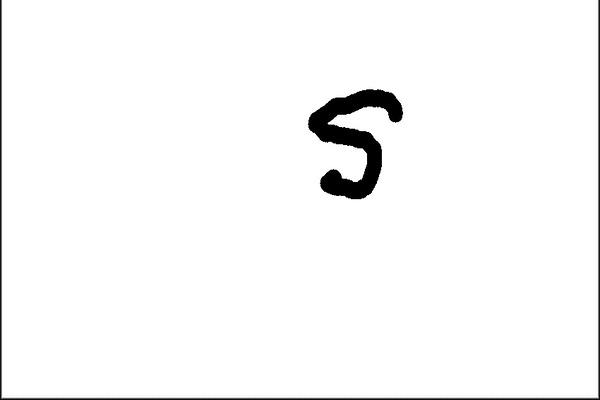S: (295, 81, 411, 206)
